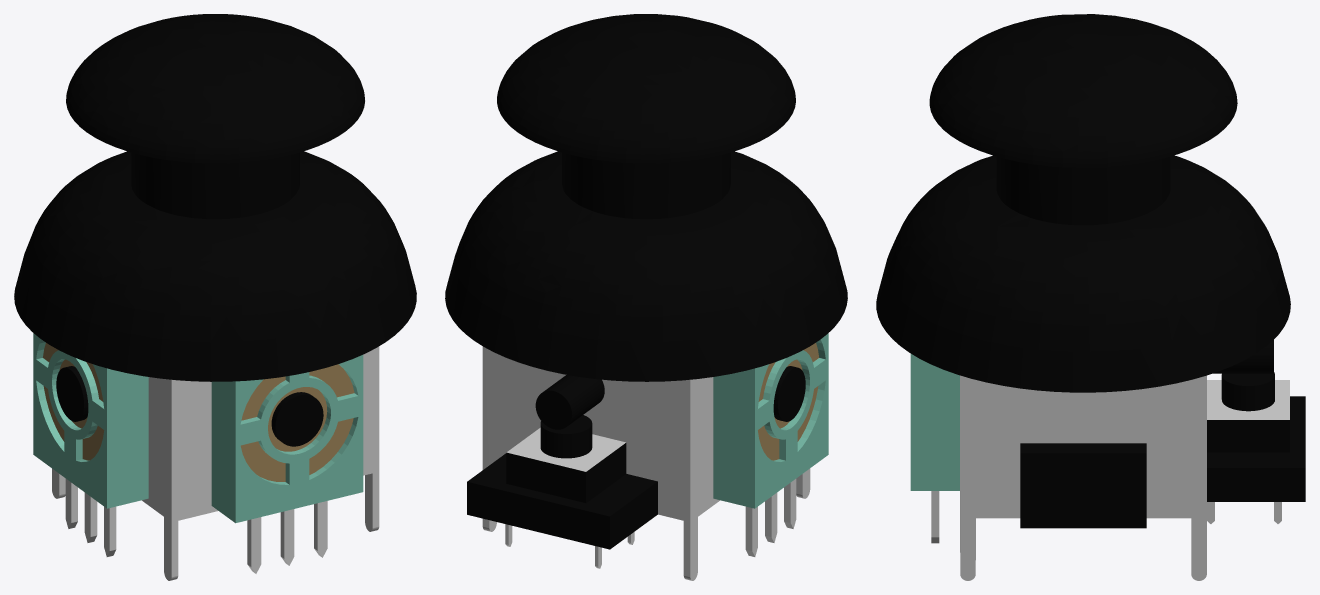
3 renders of one model, left to right at view 1: azimuth 30°, elevation 25°; view 2: azimuth 150°, elevation 25°; view 3: azimuth 270°, elevation 25°, orthographic. The views are drawn at different scales.
Parts seen in each view (by area): view 1: _032; view 2: _032; view 3: _032.
Boxes of the visible parts, bbox=[...] form: _032: bbox=[14, 14, 416, 580]; _032: bbox=[445, 14, 847, 580]; _032: bbox=[876, 14, 1305, 580].
Bounding box in the file's own units: 26.66 × 27.62 × 34.63.
